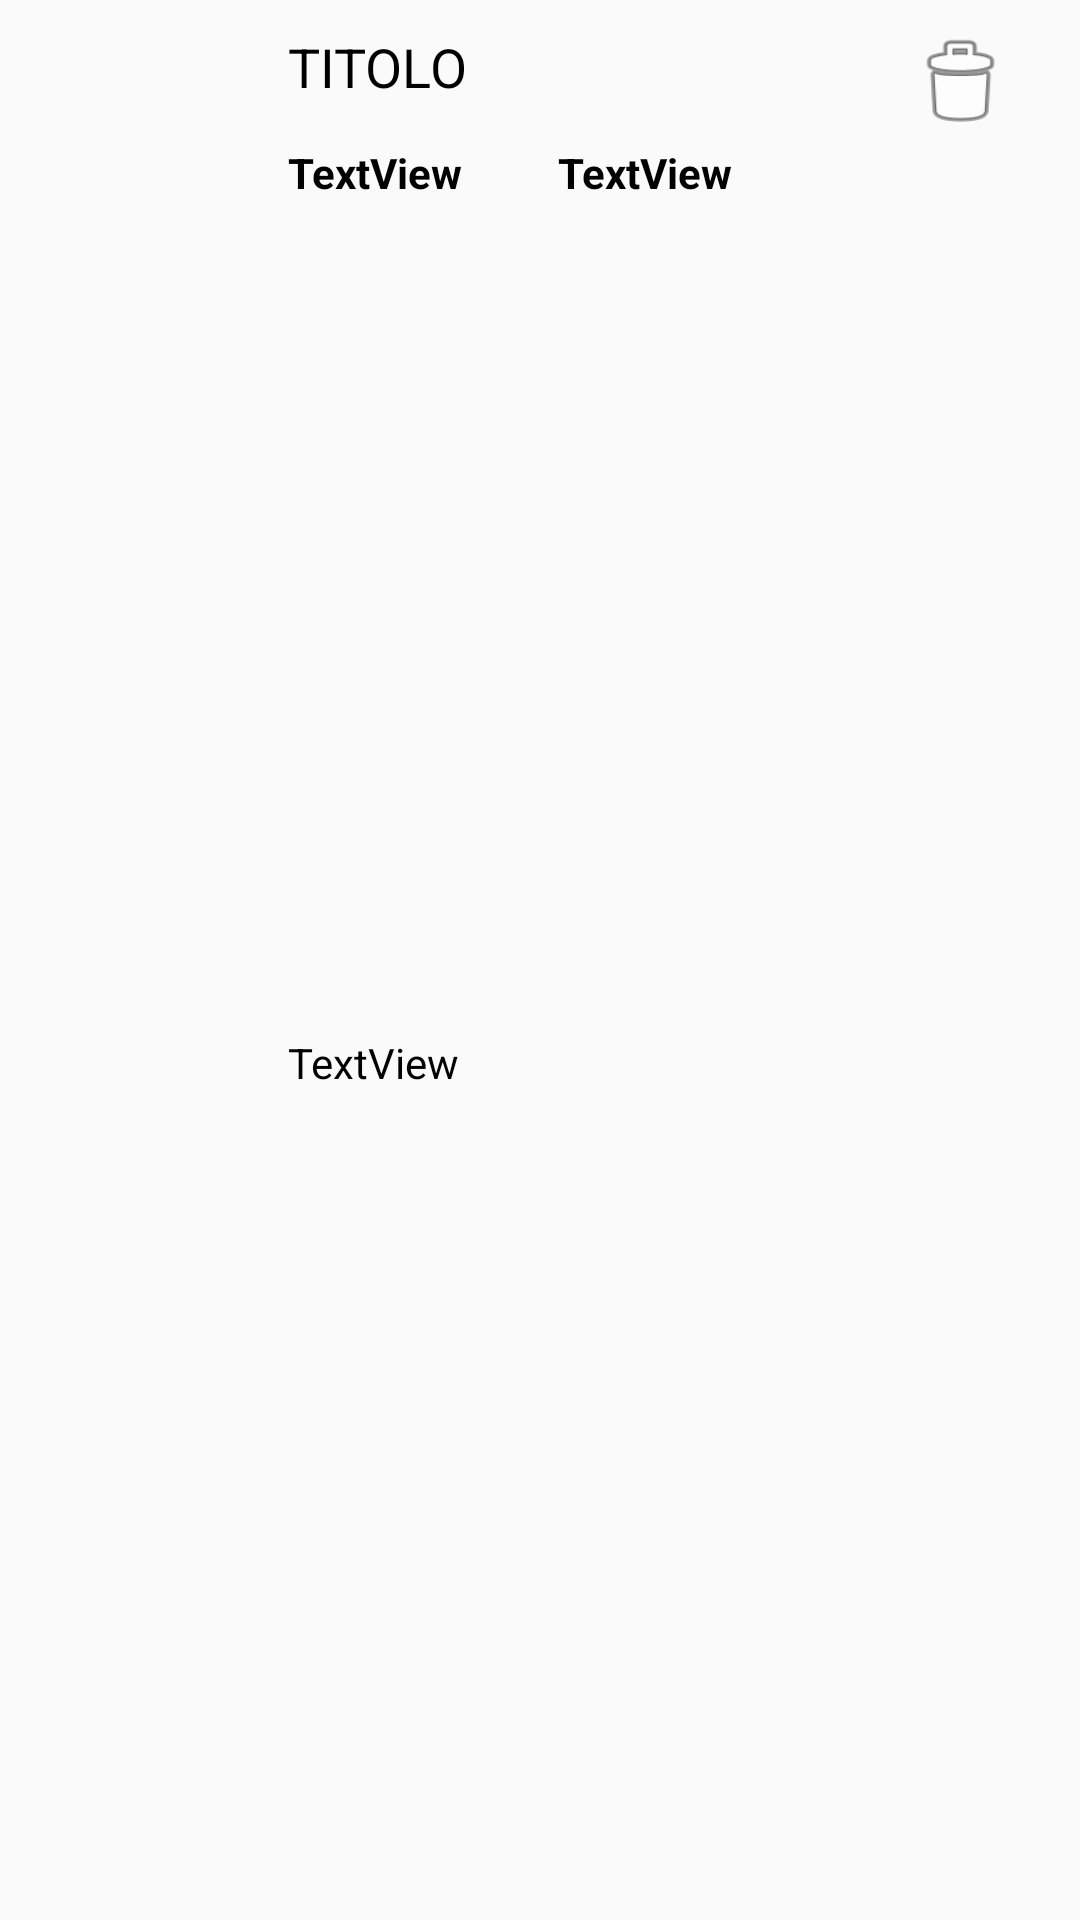

Where to tap for icons on this 1080×1920 app screen, as (x=x, y=y):
delete: (x=961, y=81)
